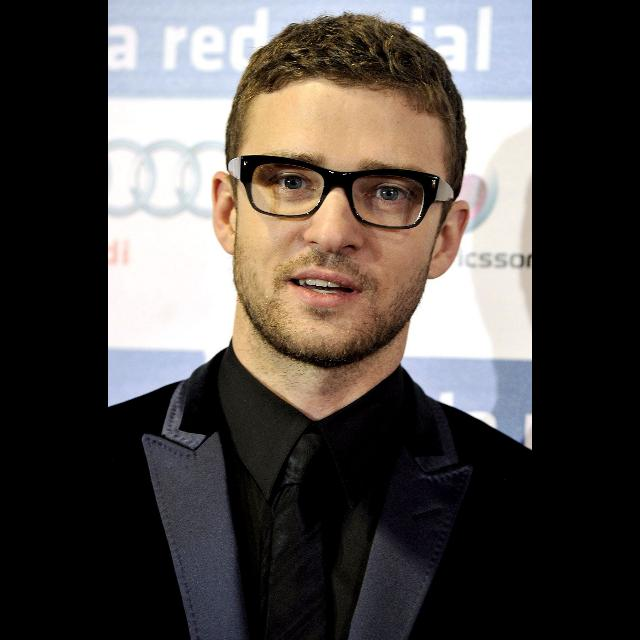glasses: (220, 148, 466, 234)
